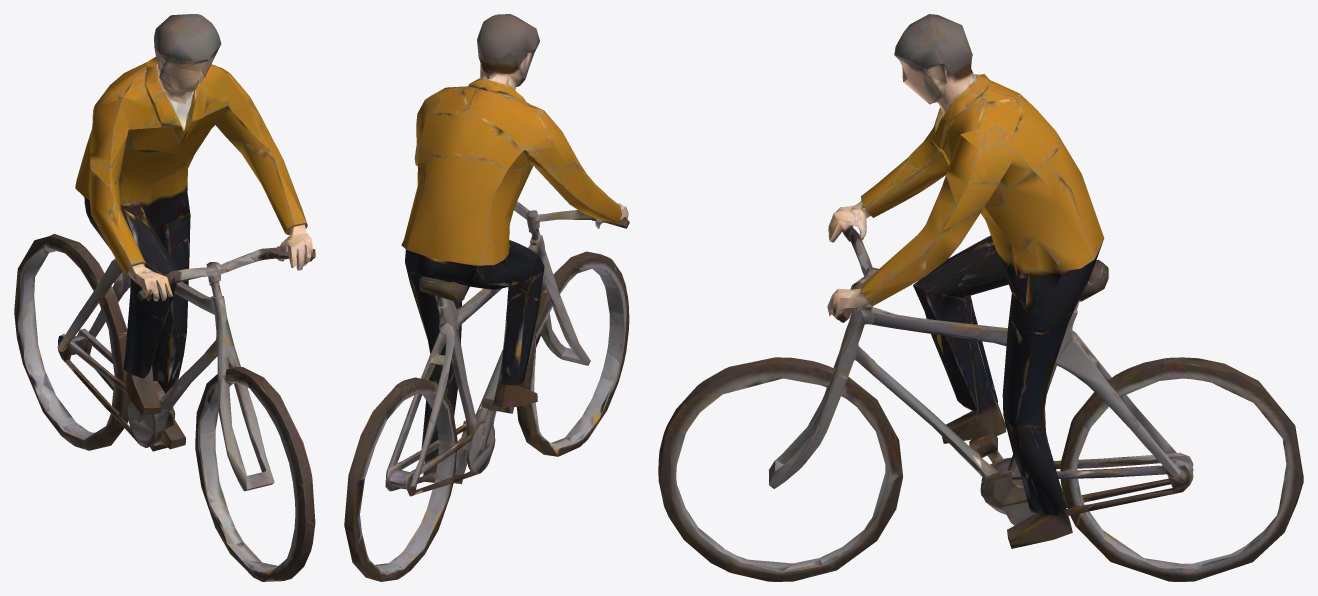
Rendered from velo.glb.
3 renders of one model, left to right at view 1: azimuth 30°, elevation 25°; view 2: azimuth 150°, elevation 25°; view 3: azimuth 270°, elevation 25°, orthographic. The views are drawn at different scales.
Size of the model in its own units: 0.7089 by 1.82 by 1.9.
Materials: 1 (1 with a texture image).
